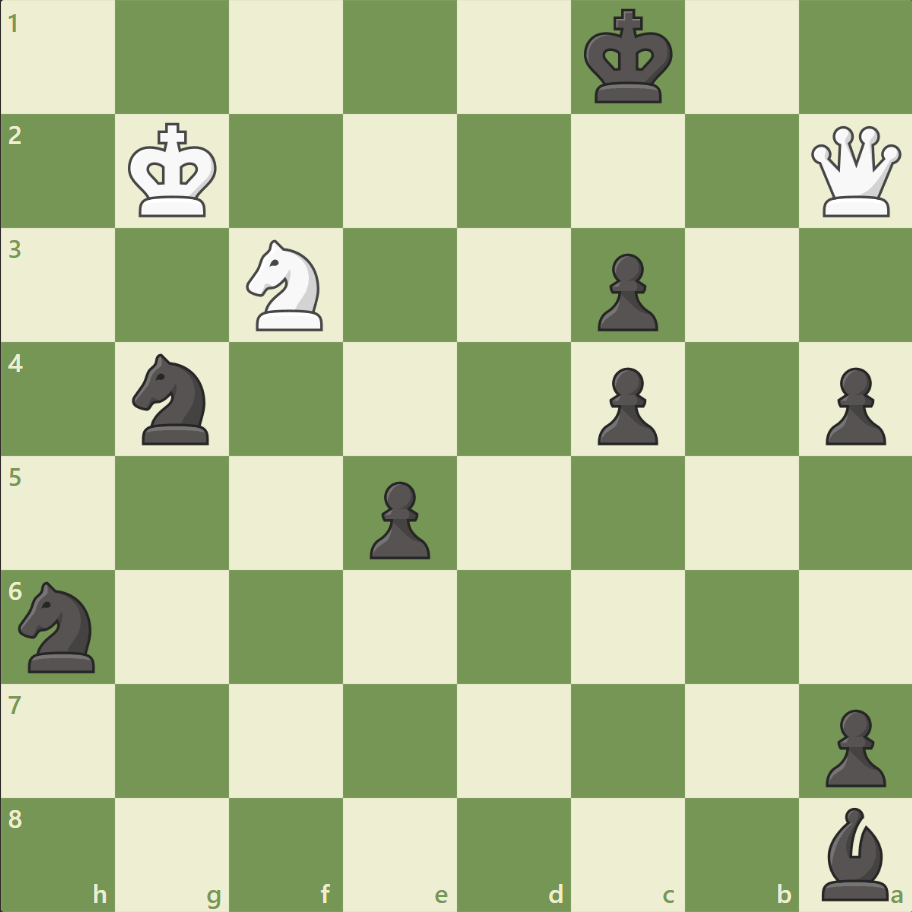K: (124, 117, 224, 225)
N: (238, 234, 335, 337)
Q: (805, 122, 904, 222)
b: (812, 801, 896, 904)
k: (579, 4, 679, 112)
n: (124, 348, 222, 450), (11, 575, 108, 677)
p: (815, 700, 889, 791), (361, 473, 435, 564), (815, 359, 889, 450), (588, 359, 662, 450), (588, 246, 662, 337)
